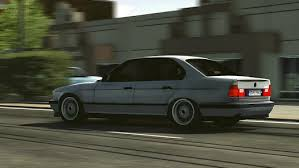car: (50, 52, 278, 130)
